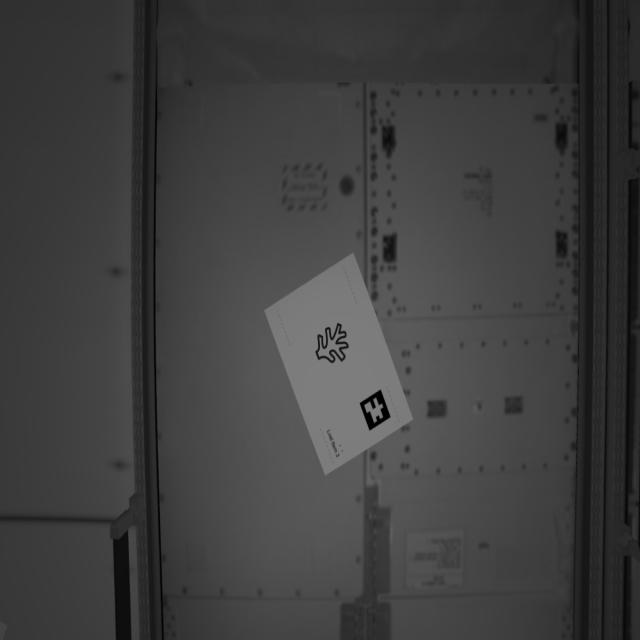coral: (313, 320, 357, 373)
